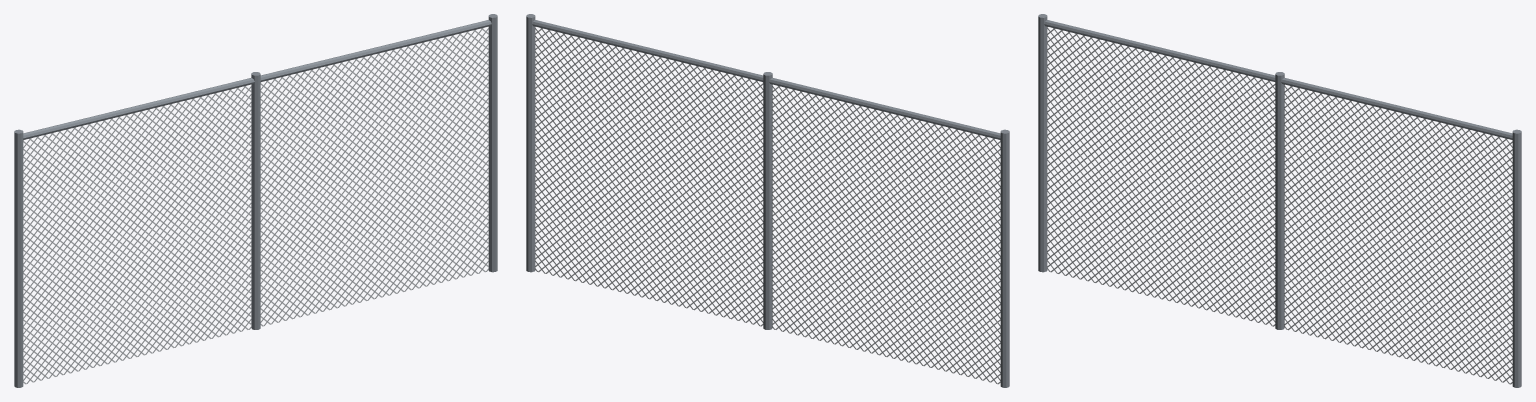
File: fence.glb
The picture shows the model from 3 angles, left to right: view 1: azimuth 30°, elevation 25°; view 2: azimuth 150°, elevation 25°; view 3: azimuth 330°, elevation 25°; orthographic projection.
Visible parts, largest first — view 1: fence; view 2: fence; view 3: fence.
Boxes of the visible parts, x1,y1,x2,y2 form: fence: [14, 14, 497, 387]; fence: [526, 14, 1009, 387]; fence: [1038, 14, 1521, 387].
Size of the model in its own units: 4.07 by 2.05 by 0.07.
2 materials, 1 textured.
